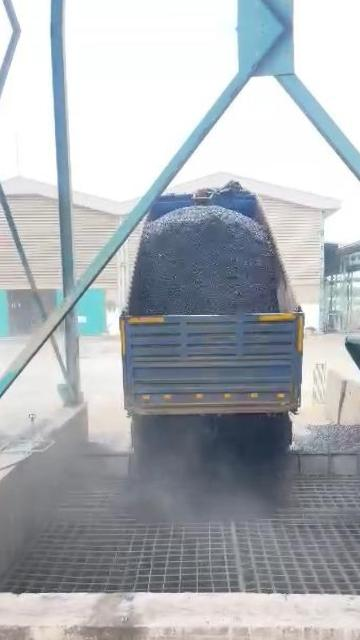gravel: (130, 206, 279, 312), (132, 414, 292, 510), (293, 425, 360, 452)
